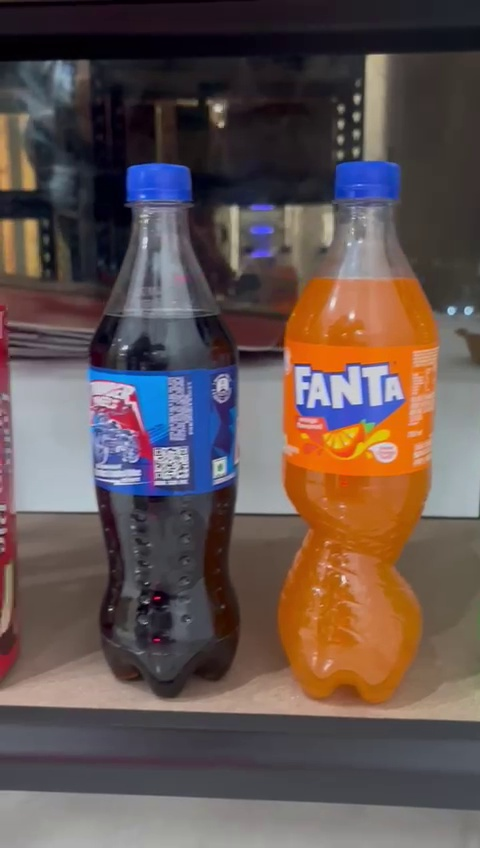Fanta: (266, 149, 454, 713)
Thums-up: (79, 164, 248, 706)
